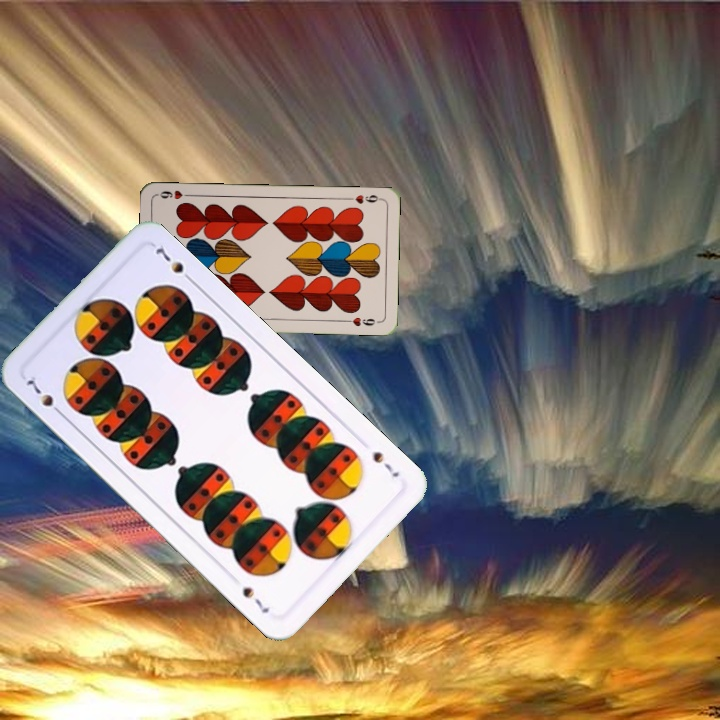H9: (343, 191, 384, 206)
S7: (22, 375, 67, 420), (368, 447, 402, 480)
